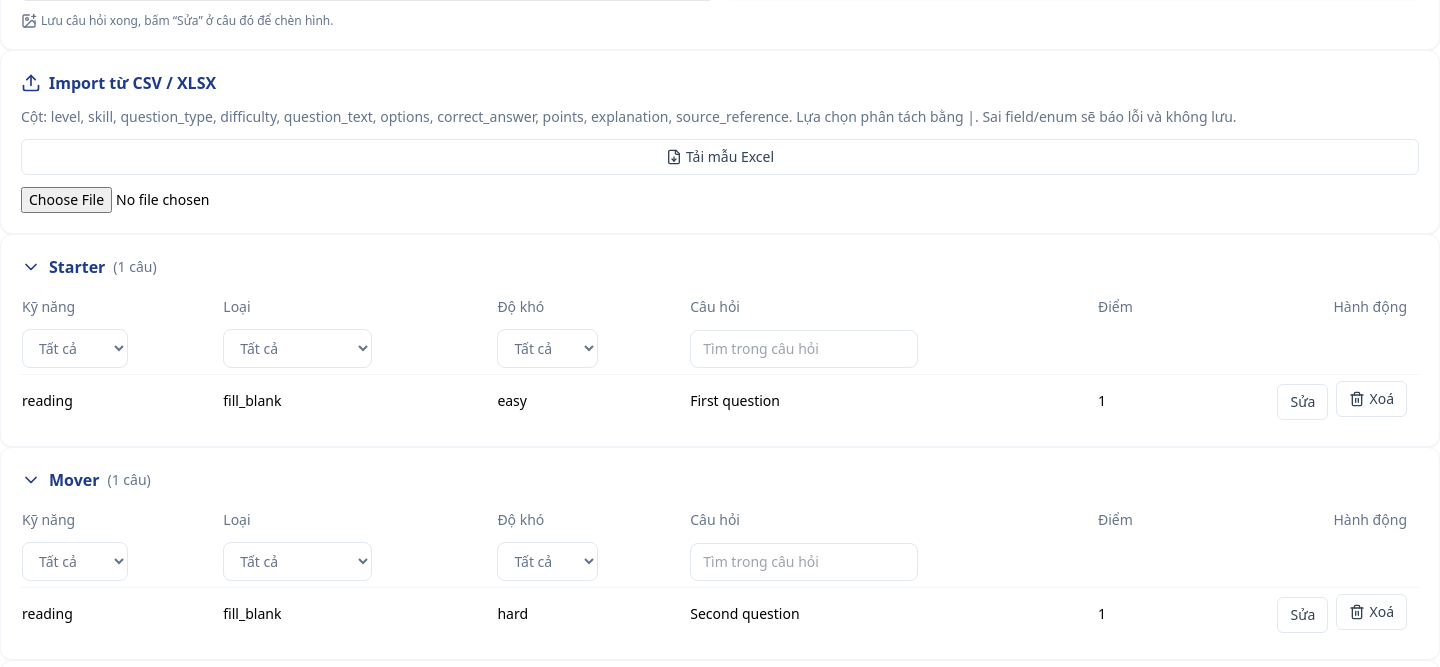
Test: question UI with real hooks/client/parser › prevents invalid edits and lets the user cancel without a PATCH
(page scrolled)
Expected: the text "First question" is shown, [689,374,1097,426]
Click the button "Sửa" in the row of "easy" at coordinates (1303, 402), box [1278,384,1328,420]
(page scrolled)
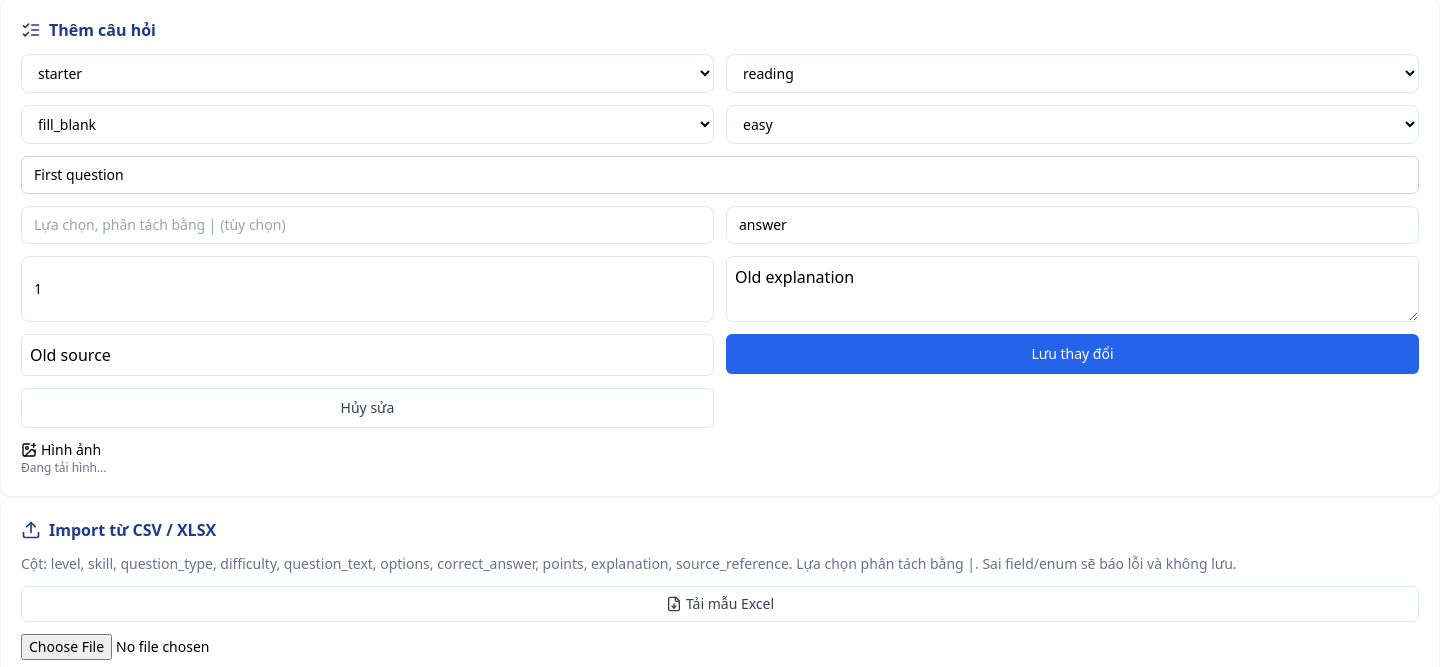
Clear the field named "Nội dung câu hỏi" at coordinates (720, 175), box [21,156,1419,194]
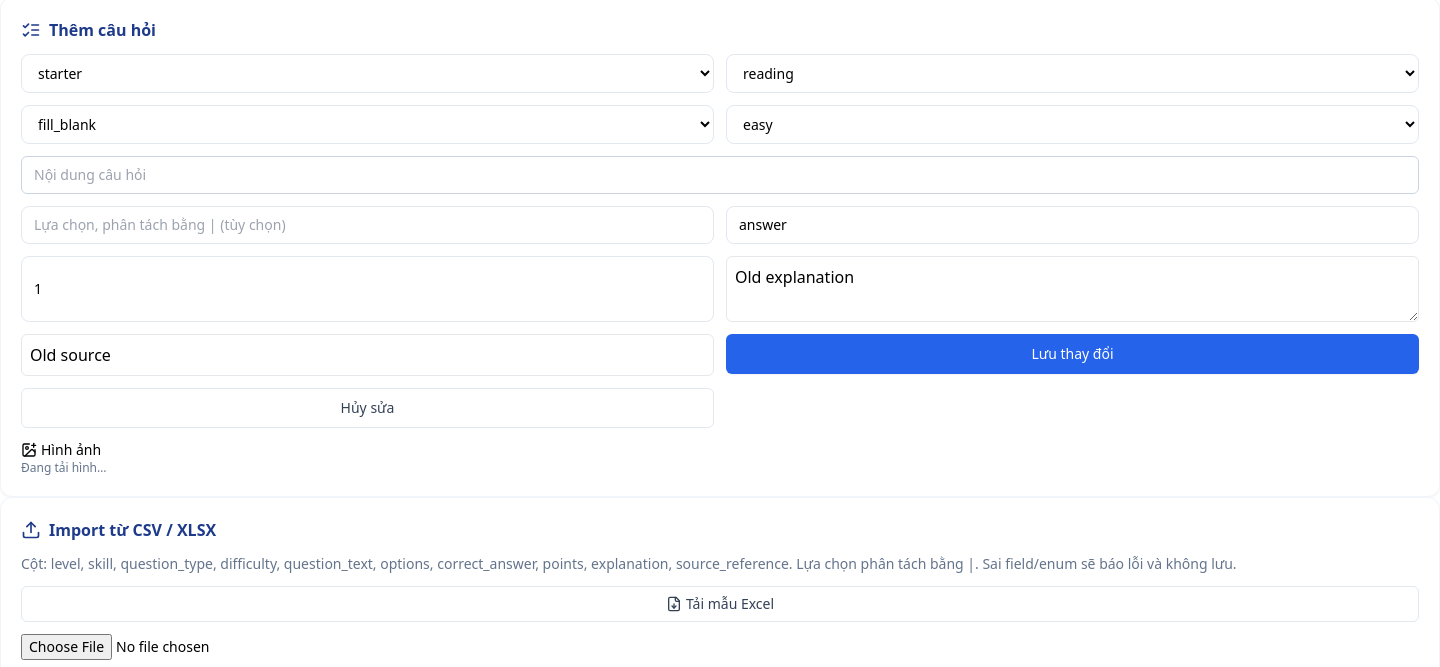
Click the button "Lưu thay đổi" at coordinates (1072, 354), box [726,334,1419,374]
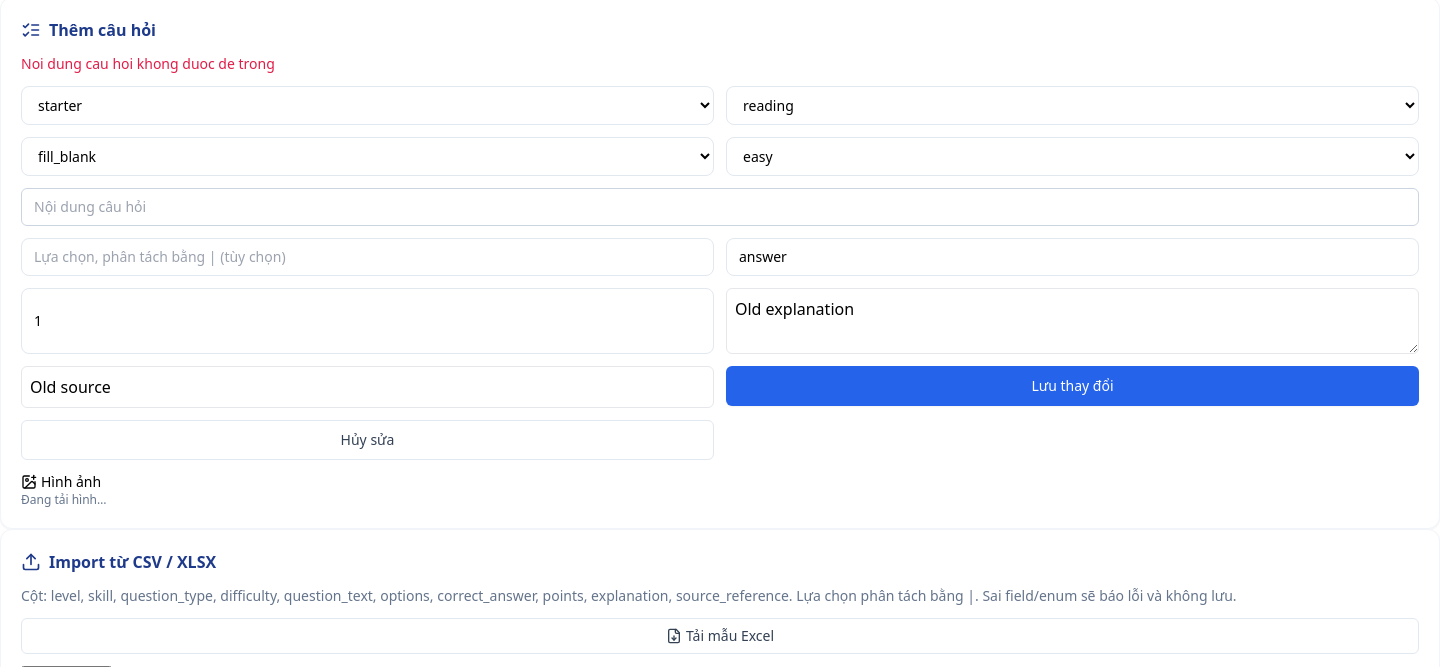
Result: the message "Noi dung cau hoi khong duoc de trong" is shown at [21,54,275,73]
Click the button "Hủy sửa" at coordinates (368, 440), box [21,420,714,460]
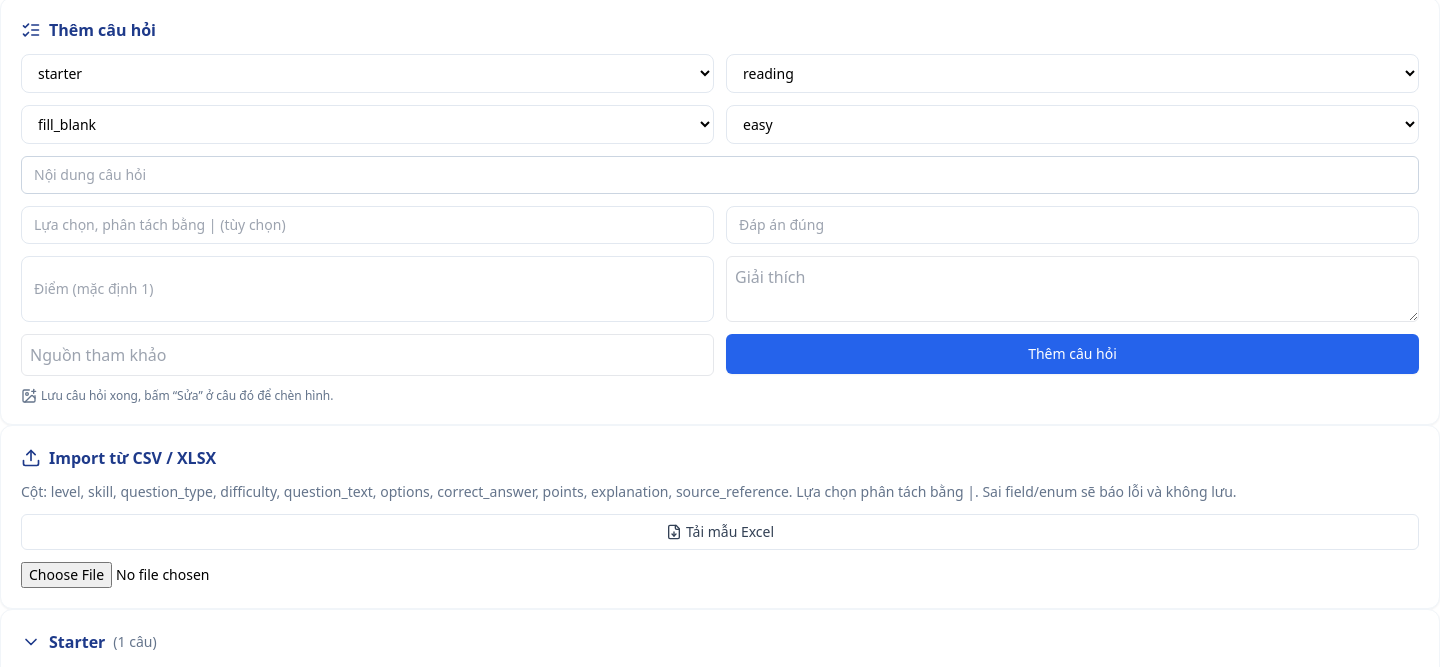
Result: the button "Lưu thay đổi" is gone
